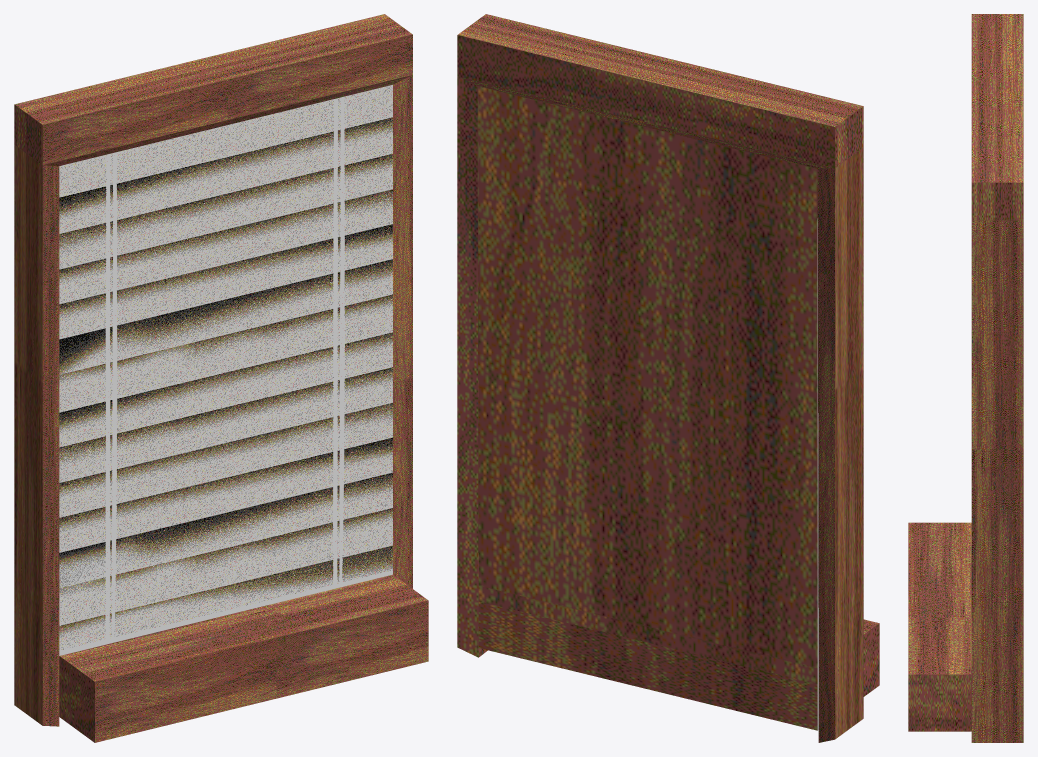
The model's file is window1.fbx.
The picture shows the model from 3 angles, left to right: view 1: azimuth 30°, elevation 25°; view 2: azimuth 150°, elevation 25°; view 3: azimuth 270°, elevation 25°; orthographic projection. The views are drawn at different scales.
Visible parts, largest first — view 1: Cube; view 2: Cube; view 3: Cube.
Boxes of the visible parts, left/top/right/bottom form: Cube: left=14, top=14, right=428, bottom=742; Cube: left=457, top=14, right=879, bottom=742; Cube: left=908, top=14, right=1023, bottom=742.
Size of the model in its own units: 158 by 249 by 45.87.
